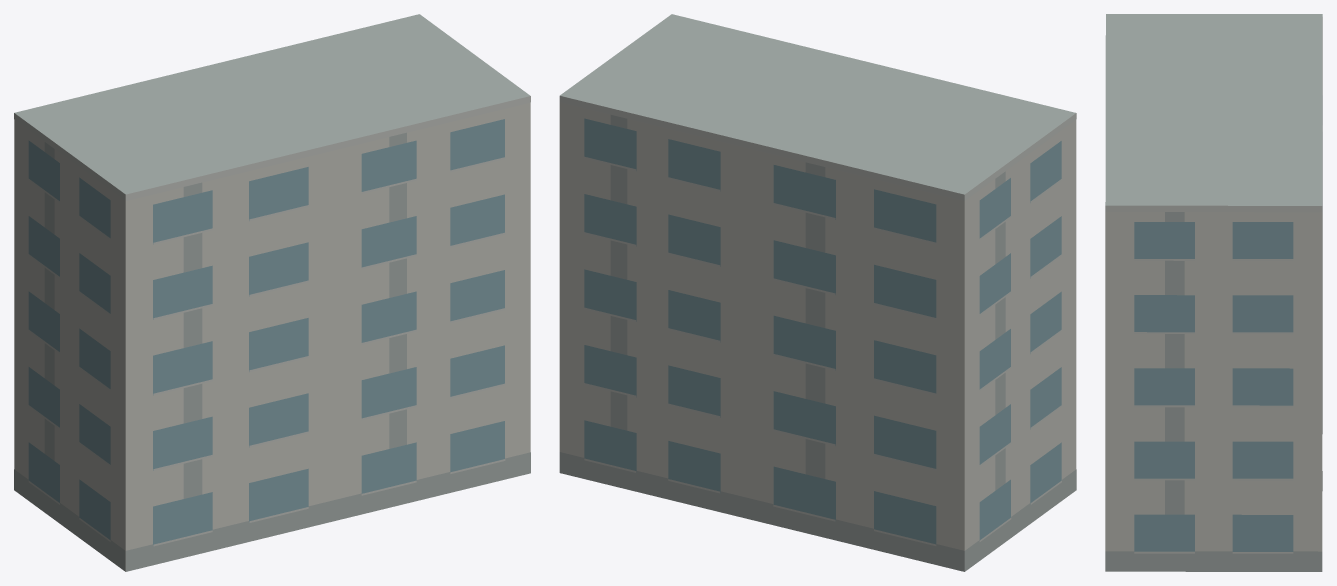
The model's file is survey-upis-32577916.glb.
3 views of the same model, side by side, from view 1: azimuth 30°, elevation 25°; view 2: azimuth 150°, elevation 25°; view 3: azimuth 270°, elevation 25° (orthographic). The views are drawn at different scales.
Parts seen in each view (by area): view 1: survey-upis-32577916.tmp; view 2: survey-upis-32577916.tmp; view 3: survey-upis-32577916.tmp.
Part boxes in pixels (x1,y1,x2,y2): survey-upis-32577916.tmp: (14, 14, 530, 571); survey-upis-32577916.tmp: (559, 14, 1076, 571); survey-upis-32577916.tmp: (1105, 14, 1322, 571).
Bounding box in the file's own units: 15.88 × 14.1 × 7.6.
